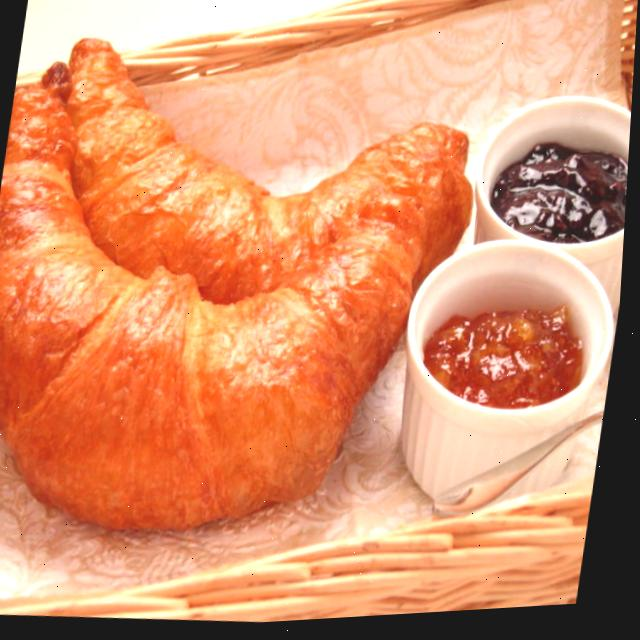面包点心: (0, 12, 460, 573)
